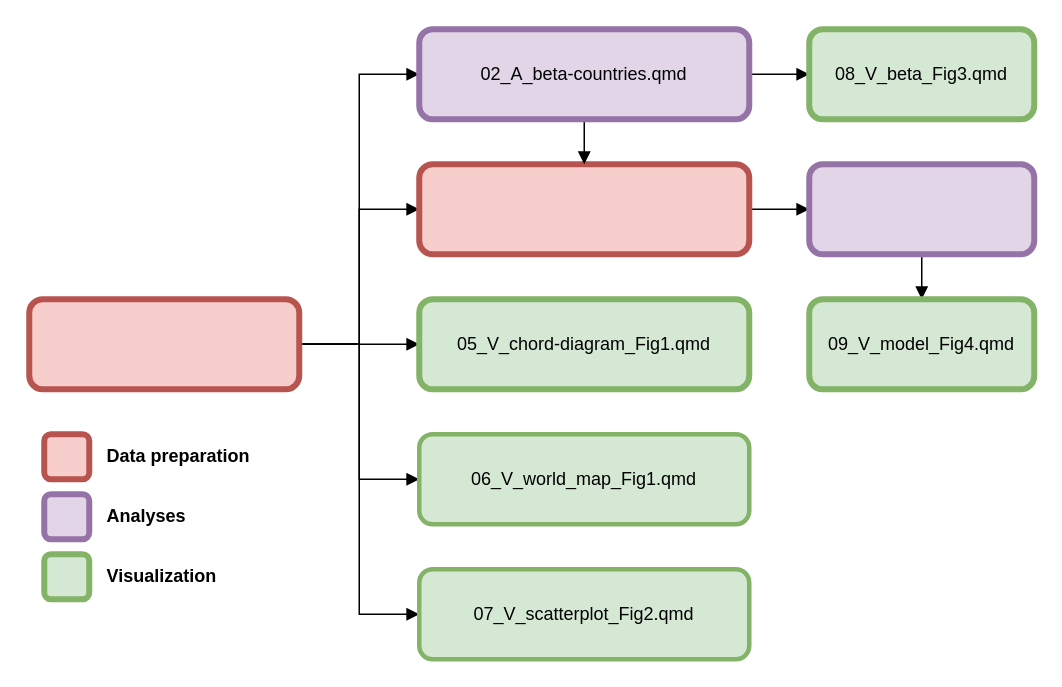
This 1062x687 diagram has some shape labels left out. Each missing label, with the centre of its shape:
"01_D_data_preparation.qmd" goes at point 164,344.
"03_D_data_preparation_ models.qmd" goes at point 584,208.
"04_A_model_NBTs.qmd" goes at point 921,208.
